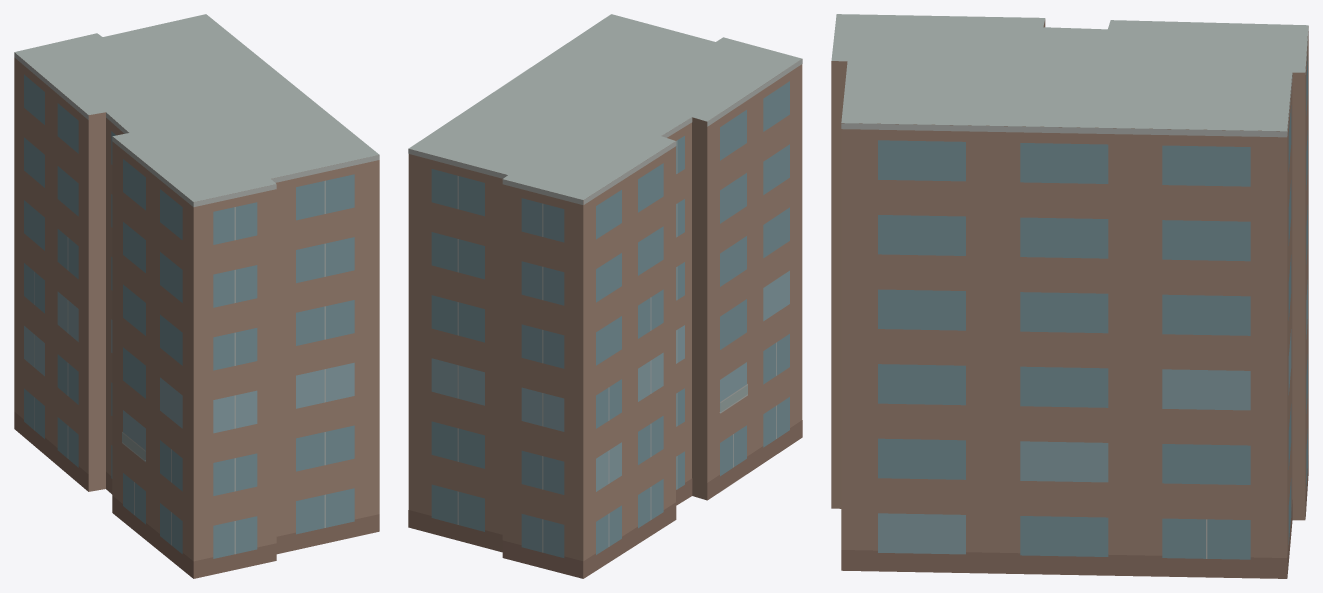
File: survey-upis-32565450.glb
3 renders of one model, left to right at view 1: azimuth 30°, elevation 25°; view 2: azimuth 150°, elevation 25°; view 3: azimuth 270°, elevation 25°, orthographic. The views are drawn at different scales.
Parts seen in each view (by area): view 1: survey-upis-32565450.tmp; view 2: survey-upis-32565450.tmp; view 3: survey-upis-32565450.tmp.
Boxes of the visible parts, box(x1,y1,x2,y2) form: survey-upis-32565450.tmp: box(14, 14, 379, 578); survey-upis-32565450.tmp: box(408, 14, 802, 578); survey-upis-32565450.tmp: box(831, 14, 1308, 578).
Bounding box in the file's own units: 10.12 × 18 × 17.4.
